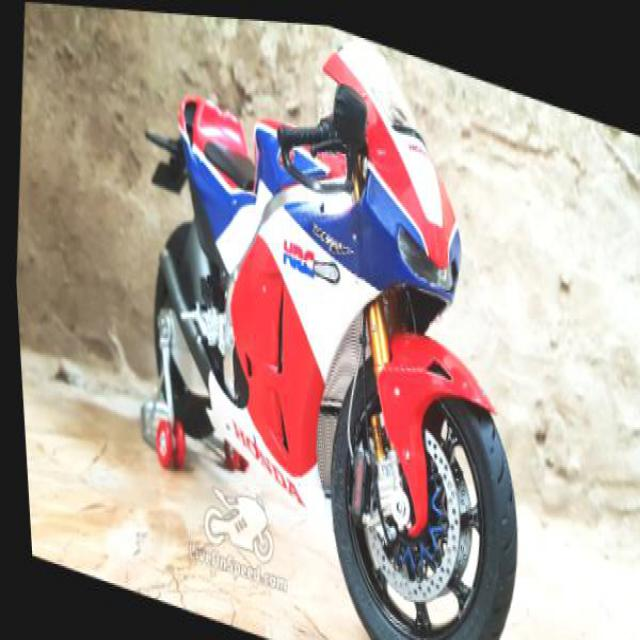HRC RCV 213: (109, 6, 557, 638)
